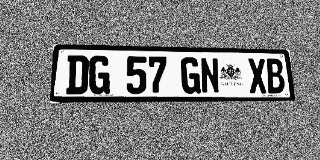5: (126, 56, 147, 94)
7: (147, 57, 167, 94)
B: (265, 59, 285, 93)
D: (66, 55, 89, 94)
G: (88, 56, 110, 94), (180, 57, 201, 94)
N: (200, 57, 220, 94)
X: (247, 58, 268, 93)
